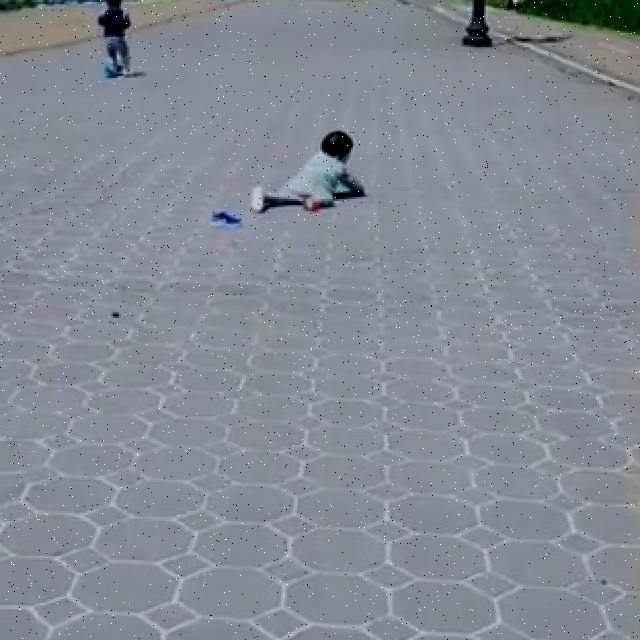child: (247, 126, 372, 217), (95, 0, 144, 84)
